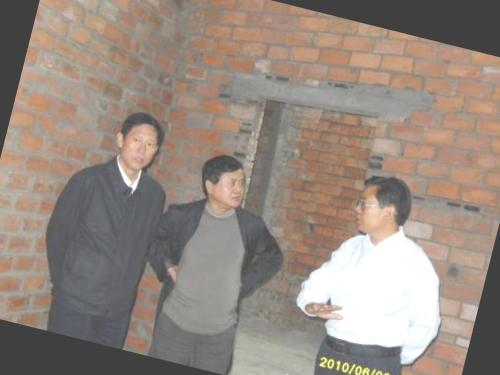no_helmet: (349, 166, 417, 245), (192, 144, 256, 215), (110, 106, 170, 175)
